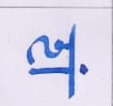i_matra: (24, 35, 44, 64)
